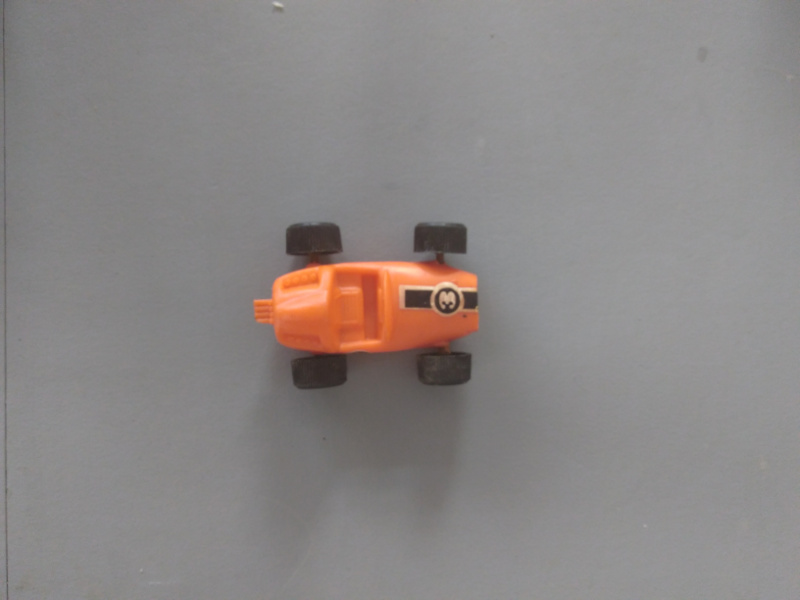naranja: (252, 223, 482, 386)
